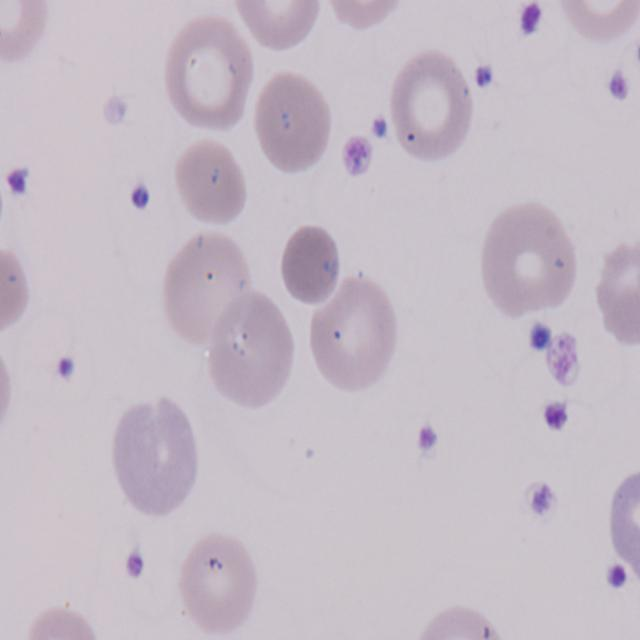Platelets: (526, 315, 554, 352)
RBC: (479, 202, 584, 319), (163, 14, 261, 136), (159, 232, 253, 352), (211, 286, 300, 412), (308, 281, 402, 398), (386, 45, 475, 166), (252, 66, 336, 180), (174, 524, 257, 636), (172, 132, 250, 232), (232, 0, 328, 52), (556, 0, 640, 46), (0, 0, 55, 66), (0, 234, 32, 340), (19, 608, 110, 640), (326, 0, 411, 31)
Spherocyte: (280, 218, 346, 310)
WBC: (108, 367, 203, 532)
